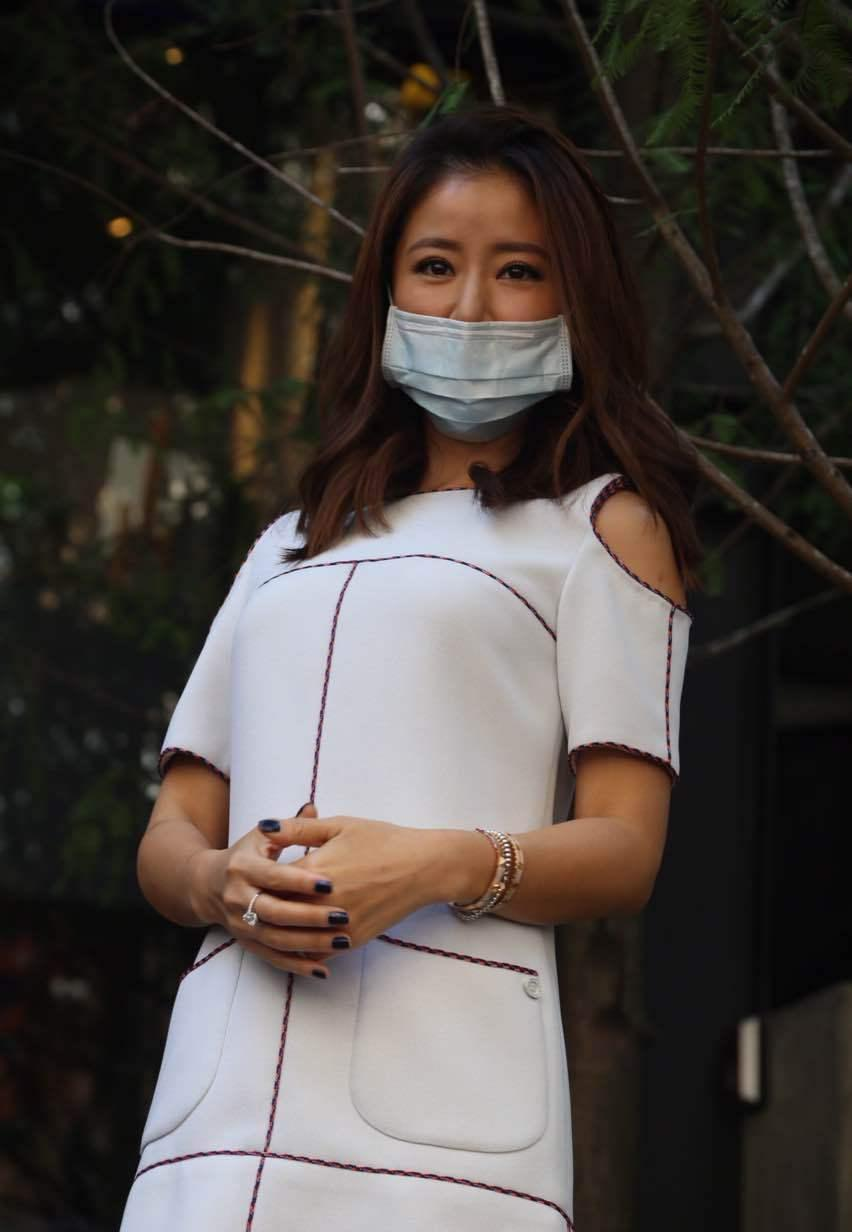face_mask: (387, 198, 568, 439)
